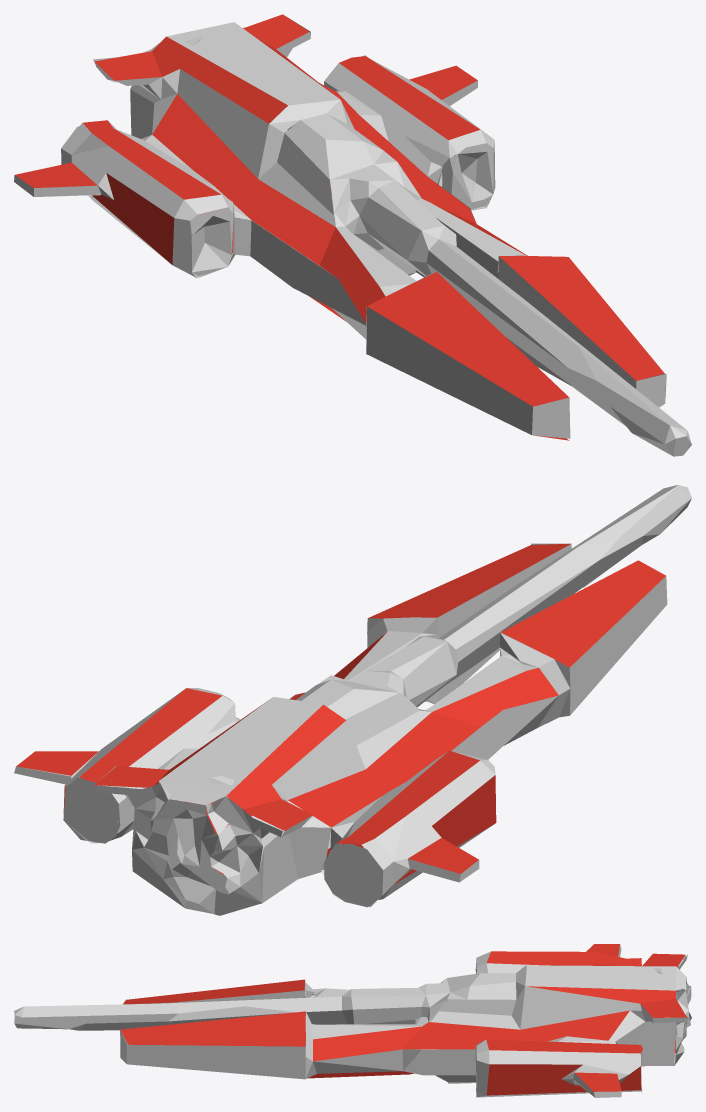
The model's file is SetReachBombardT2.glb.
The picture shows the model from 3 angles, top to bottom: view 1: azimuth 30°, elevation 25°; view 2: azimuth 150°, elevation 25°; view 3: azimuth 270°, elevation 25°; orthographic projection. The views are drawn at different scales.
Visible parts, largest first — view 1: Starfighter; view 2: Starfighter; view 3: Starfighter.
Part boxes in pixels (x1,y1,x2,y2): Starfighter: [14, 14, 691, 456]; Starfighter: [14, 485, 691, 915]; Starfighter: [14, 944, 691, 1097].
Size of the model in its own units: 29.13 by 9.74 by 56.28.
